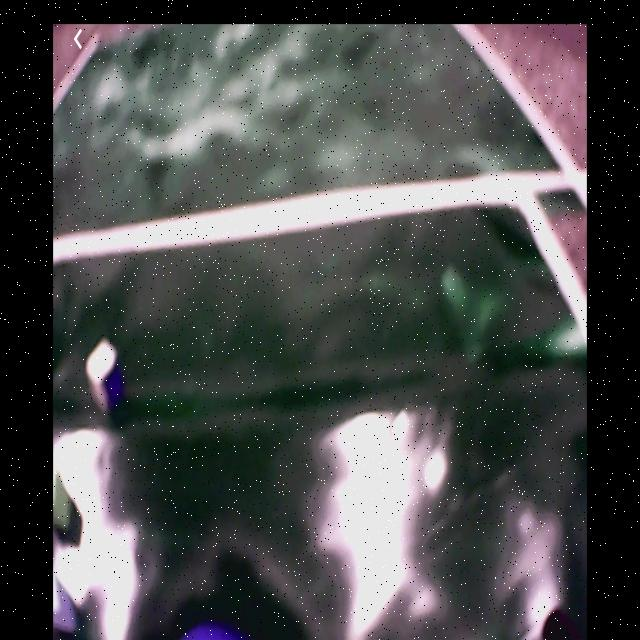ball: (185, 624, 243, 640)
